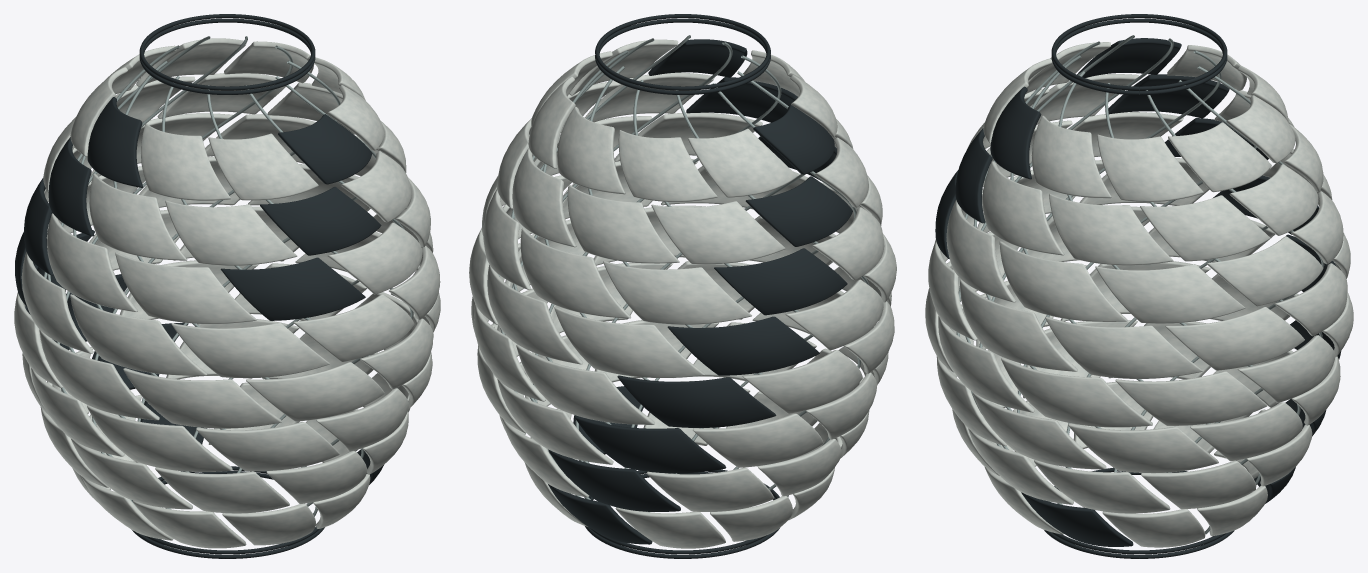
The model's file is resonance.glb.
3 renders of one model, left to right at view 1: azimuth 30°, elevation 25°; view 2: azimuth 150°, elevation 25°; view 3: azimuth 270°, elevation 25°, orthographic.
Visible parts, largest first — view 1: Petal_04_00, Petal_05_00, Petal_06_09, Petal_05_09, Petal_03_01, Petal_04_01, Petal_06_00, Petal_03_00, Petal_06_08, Petal_07_08, Petal_07_09, Petal_02_01 (+57 smaller); view 2: Petal_05_03, Petal_04_04, Petal_04_03, Petal_06_02, Petal_03_04, Petal_06_03, Petal_05_02, Petal_05_04, Petal_07_02, Petal_03_05, Petal_02_05, Petal_07_01 (+57 smaller); view 3: Petal_05_06, Petal_04_07, Petal_06_06, Petal_05_07, Petal_06_05, Petal_03_08, Petal_03_07, Petal_04_06, Petal_07_05, Petal_02_08, Petal_04_08, Petal_05_05 (+56 smaller).
Boxes of the visible parts, x1=… form: Petal_04_00: x1=171, y1=323, x2=329, y2=378; Petal_05_00: x1=115, y1=252, x2=256, y2=323; Petal_06_09: x1=165, y1=200, x2=297, y2=265; Petal_05_09: x1=220, y1=257, x2=365, y2=320; Petal_03_01: x1=123, y1=368, x2=281, y2=428; Petal_04_01: x1=70, y1=294, x2=207, y2=375; Petal_06_00: x1=89, y1=173, x2=187, y2=260; Petal_03_00: x1=246, y1=362, x2=384, y2=421; Petal_06_08: x1=260, y1=187, x2=381, y2=255; Petal_07_08: x1=208, y1=133, x2=318, y2=200; Petal_07_09: x1=140, y1=123, x2=230, y2=200; Petal_02_01: x1=196, y1=421, x2=339, y2=471; Petal_05_03: x1=603, y1=261, x2=751, y2=324; Petal_04_04: x1=554, y1=307, x2=704, y2=377; Petal_04_03: x1=667, y1=316, x2=819, y2=375; Petal_06_02: x1=651, y1=201, x2=785, y2=264; Petal_03_04: x1=617, y1=375, x2=776, y2=427; Petal_06_03: x1=567, y1=184, x2=679, y2=263; Petal_05_02: x1=714, y1=248, x2=847, y2=315; Petal_05_04: x1=520, y1=228, x2=630, y2=318; Petal_07_02: x1=618, y1=130, x2=717, y2=201; Petal_03_05: x1=516, y1=344, x2=654, y2=424; Petal_02_05: x1=574, y1=415, x2=726, y2=473; Petal_07_01: x1=687, y1=128, x2=797, y2=197; Petal_05_06: x1=1095, y1=264, x2=1245, y2=323; Petal_04_07: x1=1045, y1=316, x2=1202, y2=378; Petal_06_06: x1=1049, y1=193, x2=1173, y2=265; Petal_05_07: x1=999, y1=241, x2=1127, y2=321; Petal_06_05: x1=1140, y1=195, x2=1270, y2=261; Petal_03_08: x1=1001, y1=357, x2=1152, y2=427; Petal_03_07: x1=1115, y1=371, x2=1267, y2=425; Petal_04_06: x1=1165, y1=307, x2=1304, y2=370; Petal_07_05: x1=1097, y1=134, x2=1203, y2=201; Petal_02_08: x1=1068, y1=423, x2=1218, y2=473; Petal_04_08: x1=960, y1=279, x2=1077, y2=371; Petal_05_05: x1=1206, y1=236, x2=1323, y2=306.
Size of the model in its own units: 6.88 by 8.28 by 6.89.
Materials: 3 (1 with a texture image).
